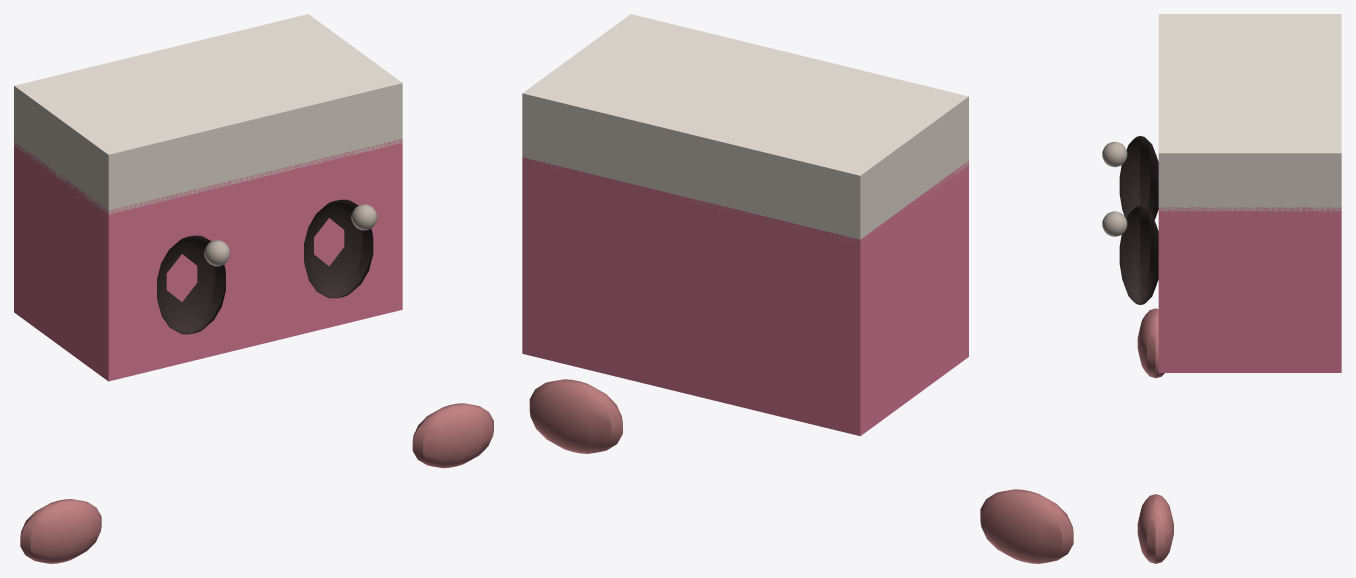
3 renders of one model, left to right at view 1: azimuth 30°, elevation 25°; view 2: azimuth 150°, elevation 25°; view 3: azimuth 270°, elevation 25°, orthographic. The views are drawn at different scales.
Visible parts, largest first — view 1: pet_p1013c2d8; view 2: pet_p1013c2d8; view 3: pet_p1013c2d8.
Boxes of the visible parts, x1,y1,x2,y2 form: pet_p1013c2d8: (14, 14, 493, 563); pet_p1013c2d8: (522, 14, 1073, 563); pet_p1013c2d8: (1102, 14, 1341, 563).
Bounding box in the file's own units: 0.2896 × 0.2301 × 0.1309.
